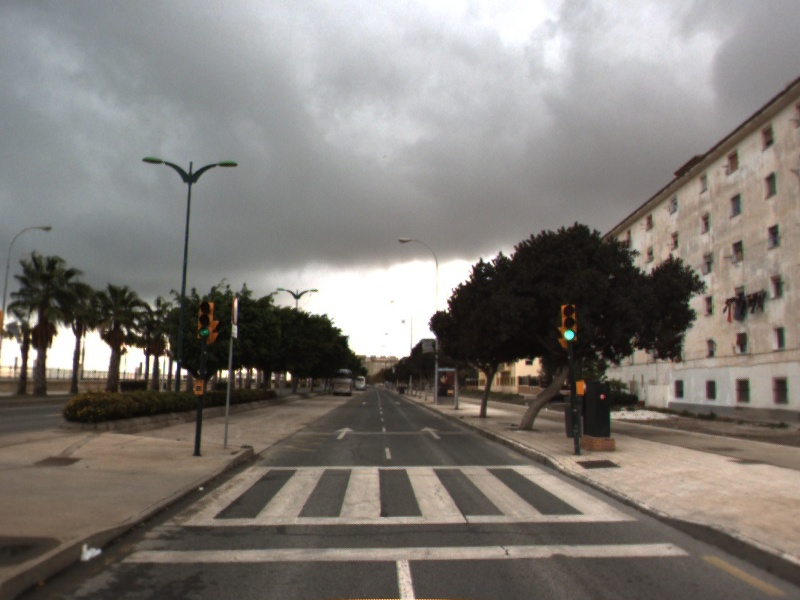STRAIGHT: (418, 424, 444, 441), (333, 425, 358, 442)
